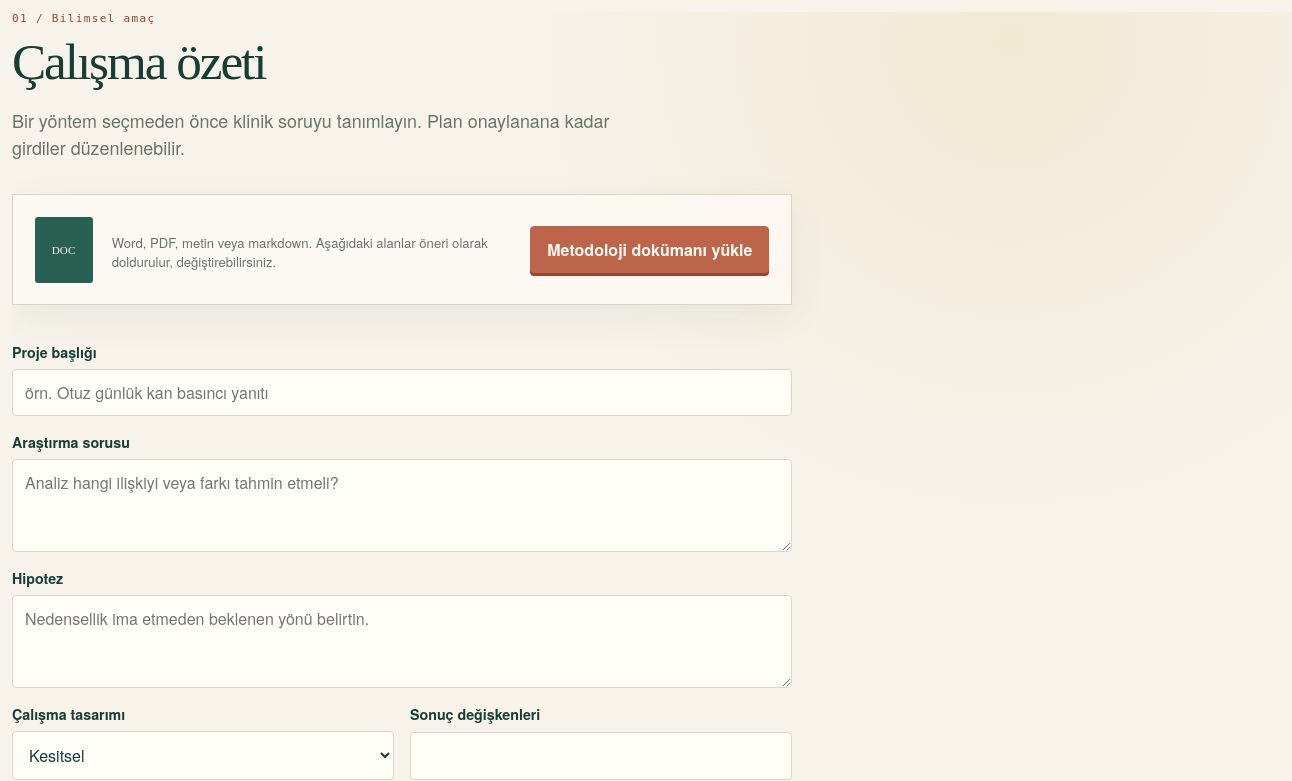
Test case: warns when no methods section was found, reading the merged top-level warnings
Click the button "Metodoloji dokümanı yükle" at point(650, 250), box 530,226 -> 769,273
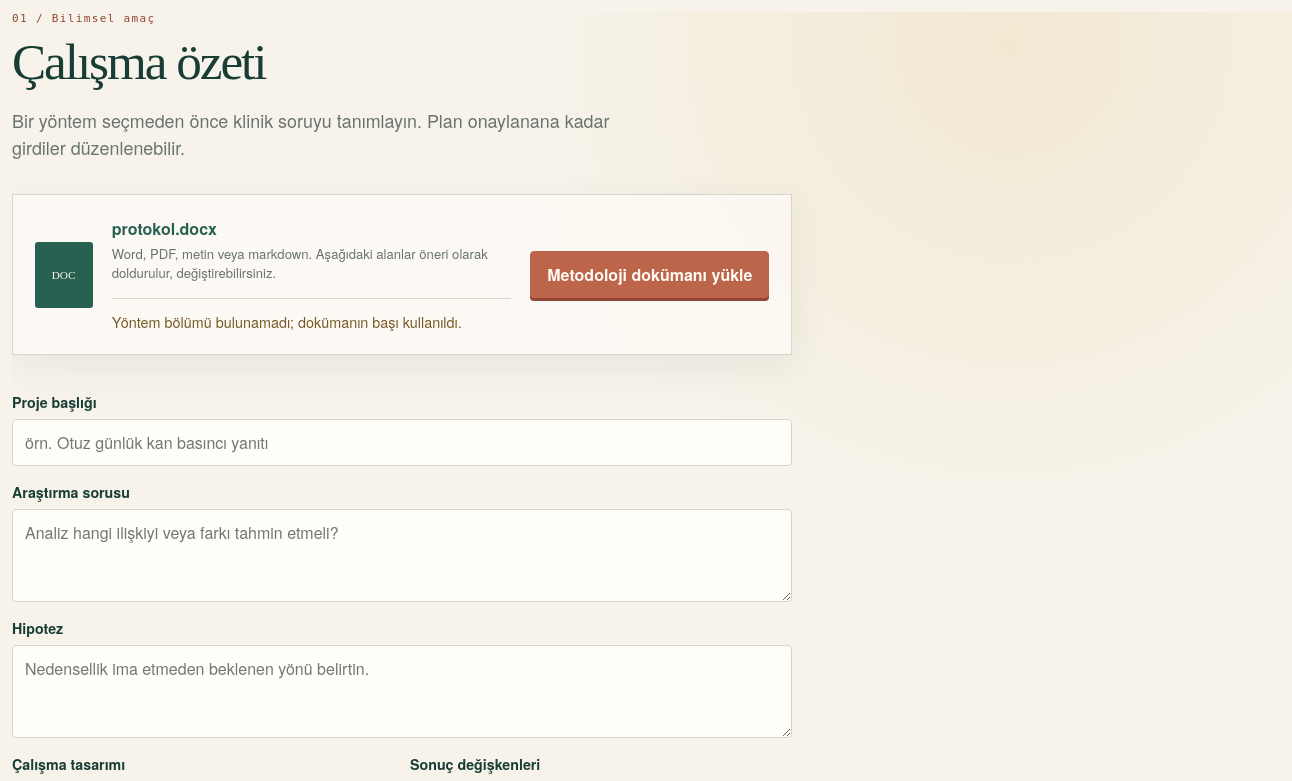
Now the text "Yöntem bölümü bulunamadı; dokümanın başı kullanıldı." is shown, box 112,298 -> 511,332
